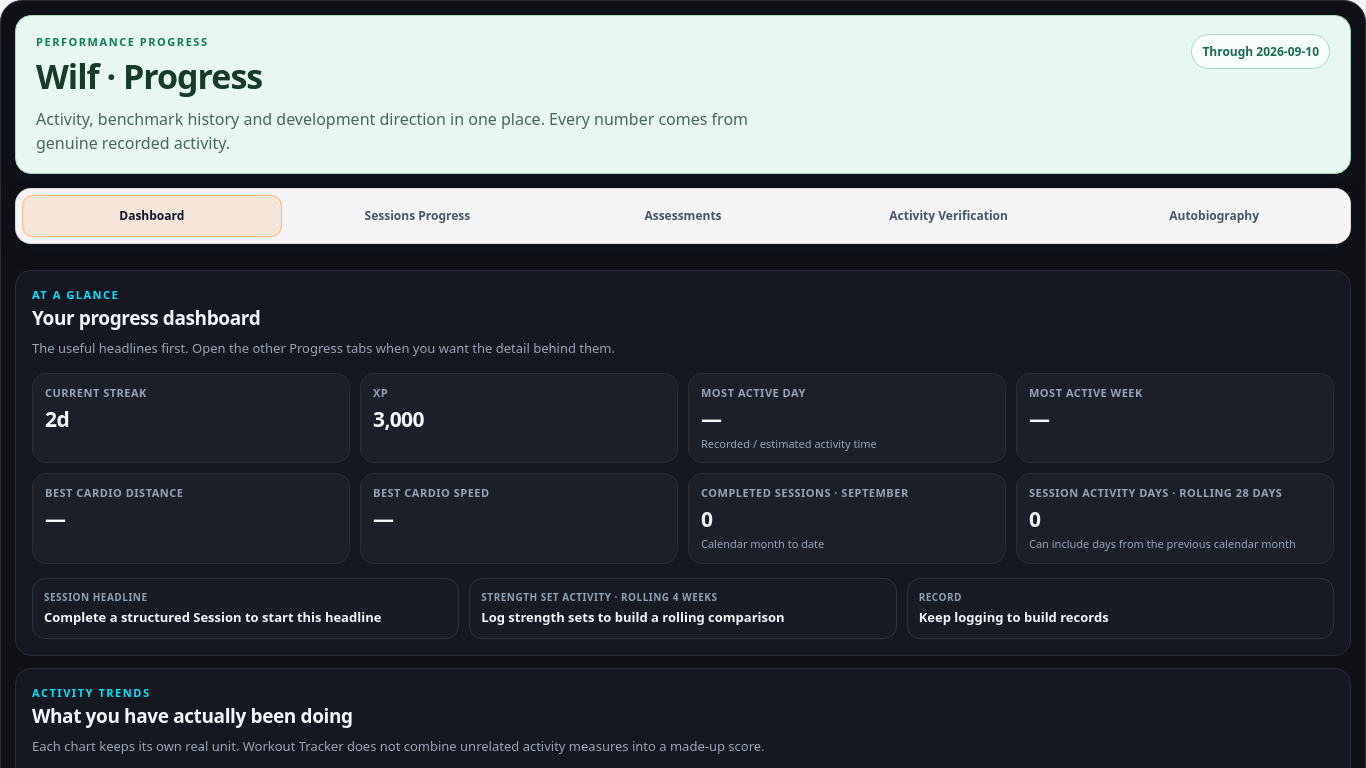
Test case: ProgressDashboard Stage 6 integration › wires Assessment charts and detailed Development Trends into the dedicated Assessments view
Click the button "Assessments" at (683, 216), box [553, 195, 813, 237]
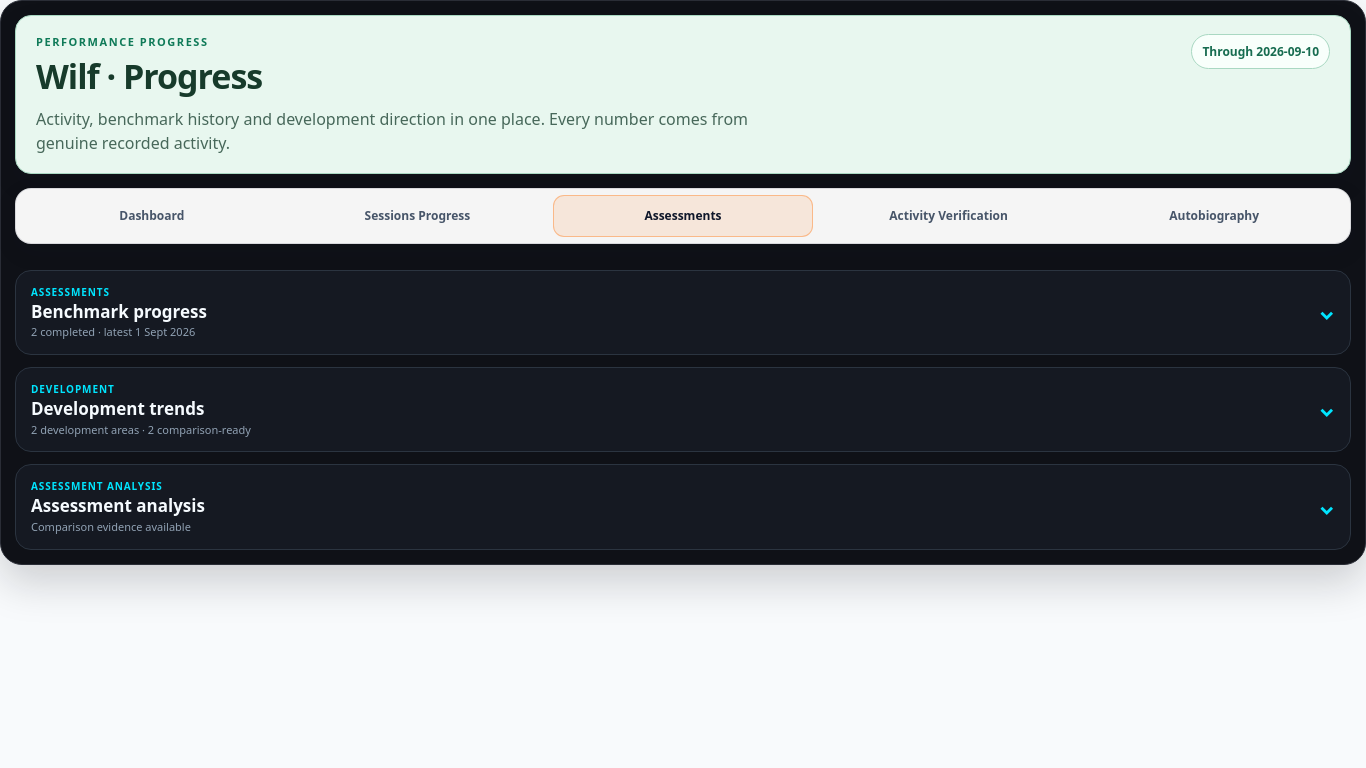
Check: the button "Sessions Progress" is shown, box [288, 195, 547, 237]
Check: the text "Benchmark progress" is shown, box [31, 302, 207, 322]
Check: the text "Assessment analysis" is shown, box [31, 496, 205, 517]
